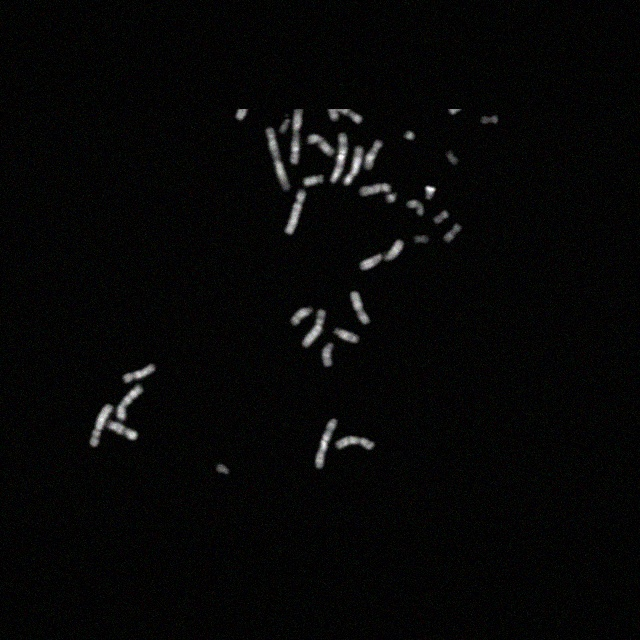chromosome: (266, 126, 290, 190), (360, 240, 402, 270), (316, 419, 338, 469), (284, 188, 306, 236), (116, 385, 144, 421), (90, 404, 112, 448), (330, 132, 348, 184), (302, 309, 326, 347), (344, 146, 364, 186), (350, 290, 370, 324), (122, 363, 156, 383), (104, 420, 138, 440), (290, 109, 302, 165), (336, 435, 374, 451), (308, 134, 334, 156), (328, 108, 362, 124), (364, 140, 382, 170), (290, 306, 314, 326), (333, 327, 359, 343), (360, 184, 392, 196), (443, 224, 463, 242), (407, 200, 423, 217), (304, 174, 324, 186), (322, 342, 332, 366), (433, 210, 449, 224), (480, 115, 500, 125), (413, 234, 429, 246), (424, 186, 436, 200), (446, 150, 458, 164), (280, 118, 290, 132), (217, 464, 230, 474), (386, 192, 398, 202), (236, 110, 248, 120), (403, 130, 415, 140)
